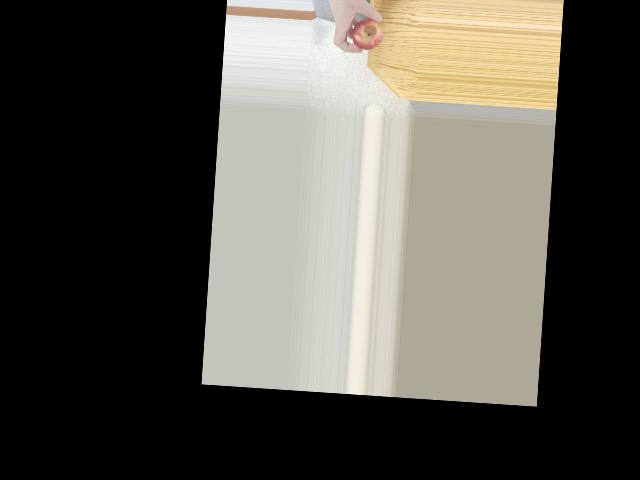apple: (351, 12, 384, 51)
